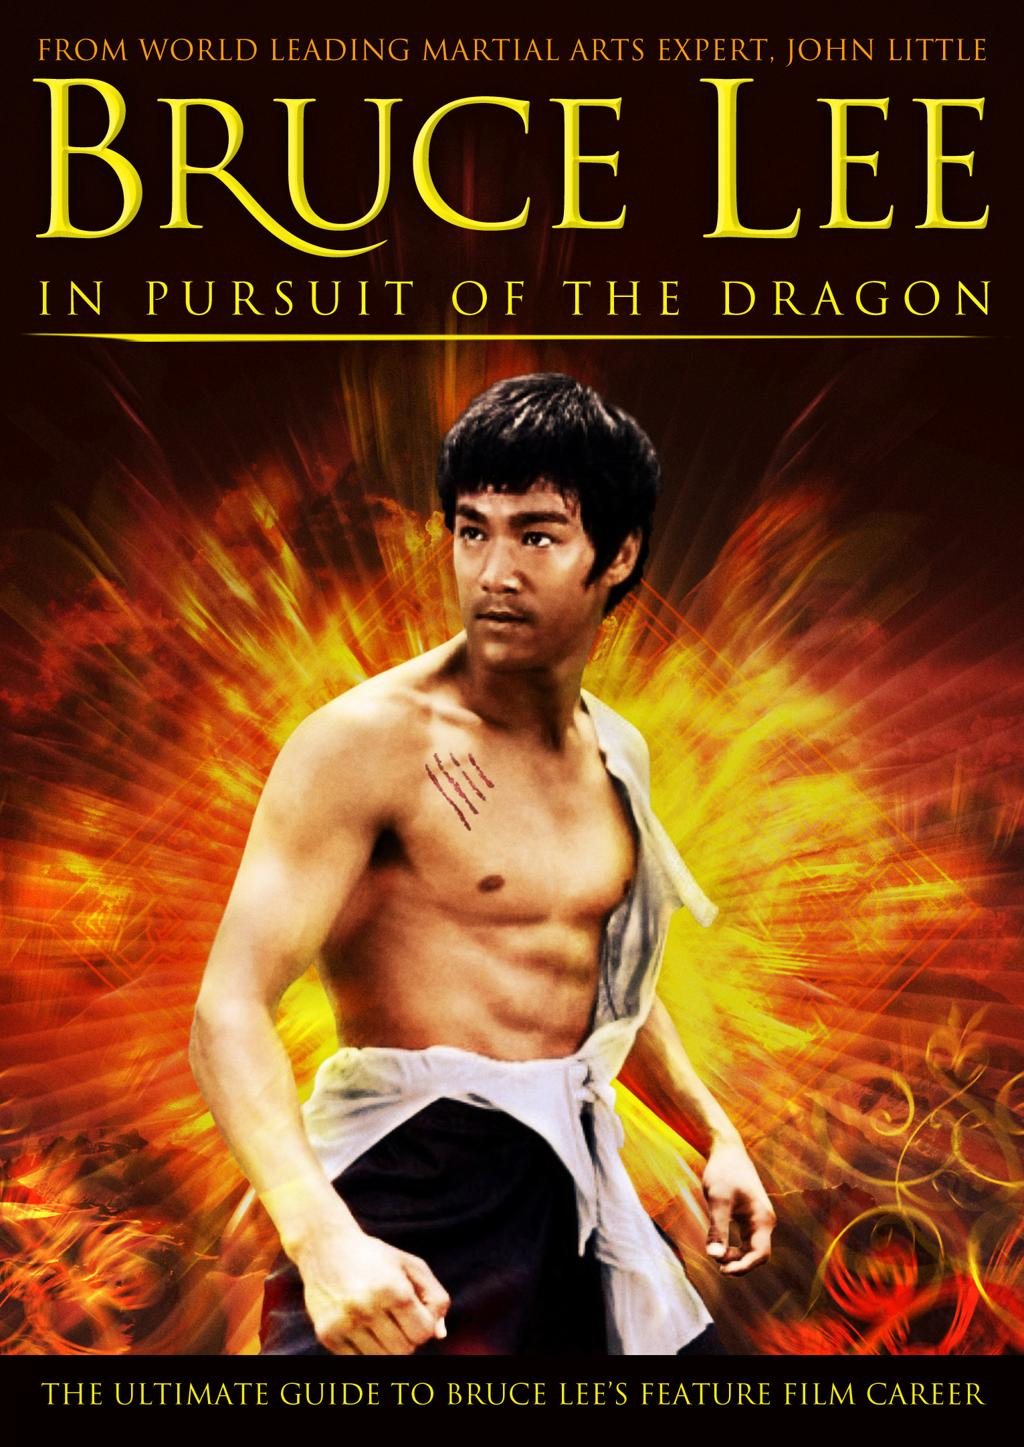face: (451, 451, 598, 665)
